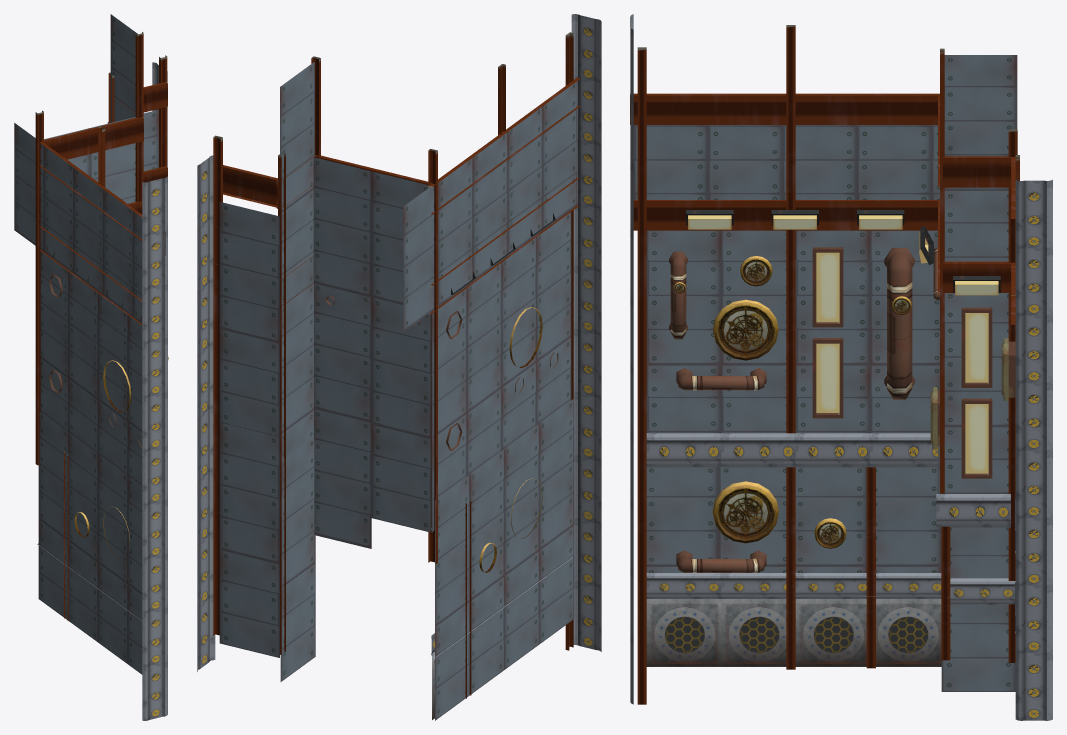
File: normal3.fbx
3 views of the same model, side by side, from view 1: azimuth 30°, elevation 25°; view 2: azimuth 150°, elevation 25°; view 3: azimuth 270°, elevation 25° (orthographic). The views are drawn at different scales.
Parts seen in each view (by area): view 1: Normal3; view 2: Normal3; view 3: Normal3.
Part boxes in pixels (left/top/right/bottom): Normal3: left=14, top=14, right=168, bottom=720; Normal3: left=197, top=14, right=601, bottom=720; Normal3: left=630, top=14, right=1052, bottom=720.
Size of the model in its own units: 1397 by 4221 by 2272.
